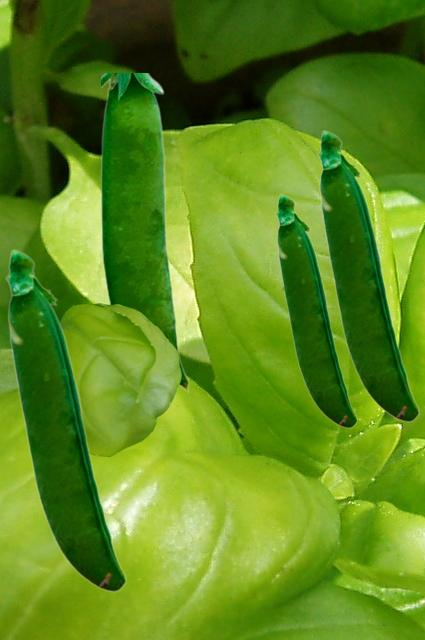pea: (5, 248, 125, 591), (317, 129, 418, 421), (101, 73, 188, 391), (275, 193, 356, 427)
